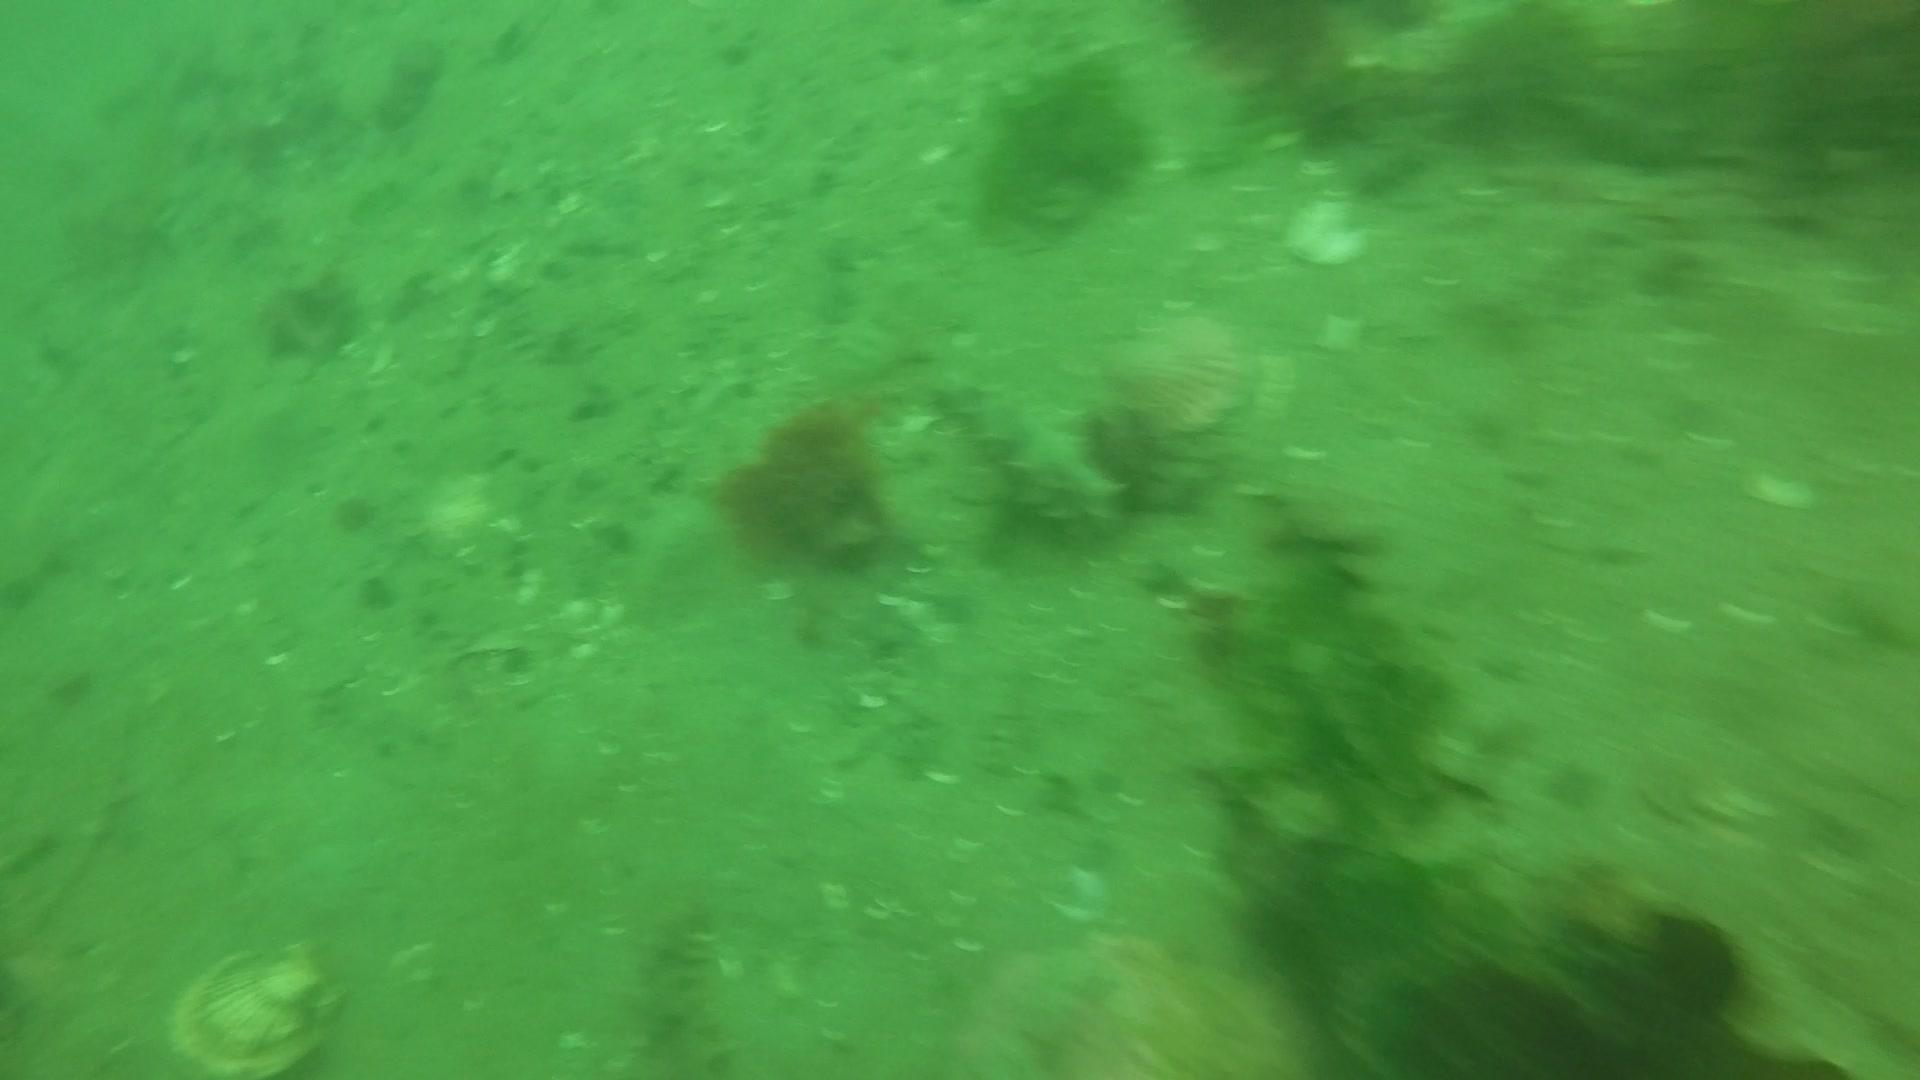holothurian: (625, 891, 742, 1080)
scallop: (171, 943, 361, 1080), (1112, 309, 1253, 444), (407, 477, 504, 566)
